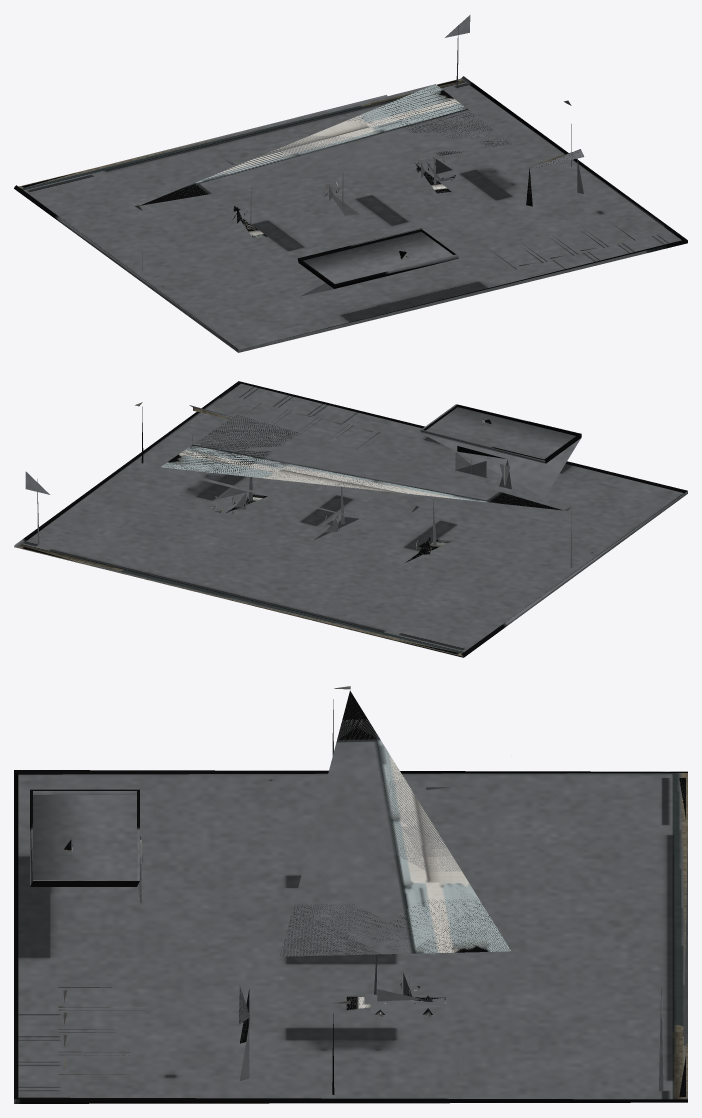
File: fuel_roadside_001.lod2.obj
3 renders of one model, top to bottom at view 1: azimuth 30°, elevation 25°; view 2: azimuth 150°, elevation 25°; view 3: azimuth 270°, elevation 25°, orthographic. The views are drawn at different scales.
Visible parts, largest first — view 1: fuel_roadside_001; view 2: fuel_roadside_001; view 3: fuel_roadside_001.
Part boxes in pixels (x1,y1,x2,y2): fuel_roadside_001: (14, 15, 687, 352); fuel_roadside_001: (14, 381, 687, 657); fuel_roadside_001: (14, 686, 687, 1103).
Size of the model in its own units: 44 by 7 by 38.
Materials: 1 (1 with a texture image).
